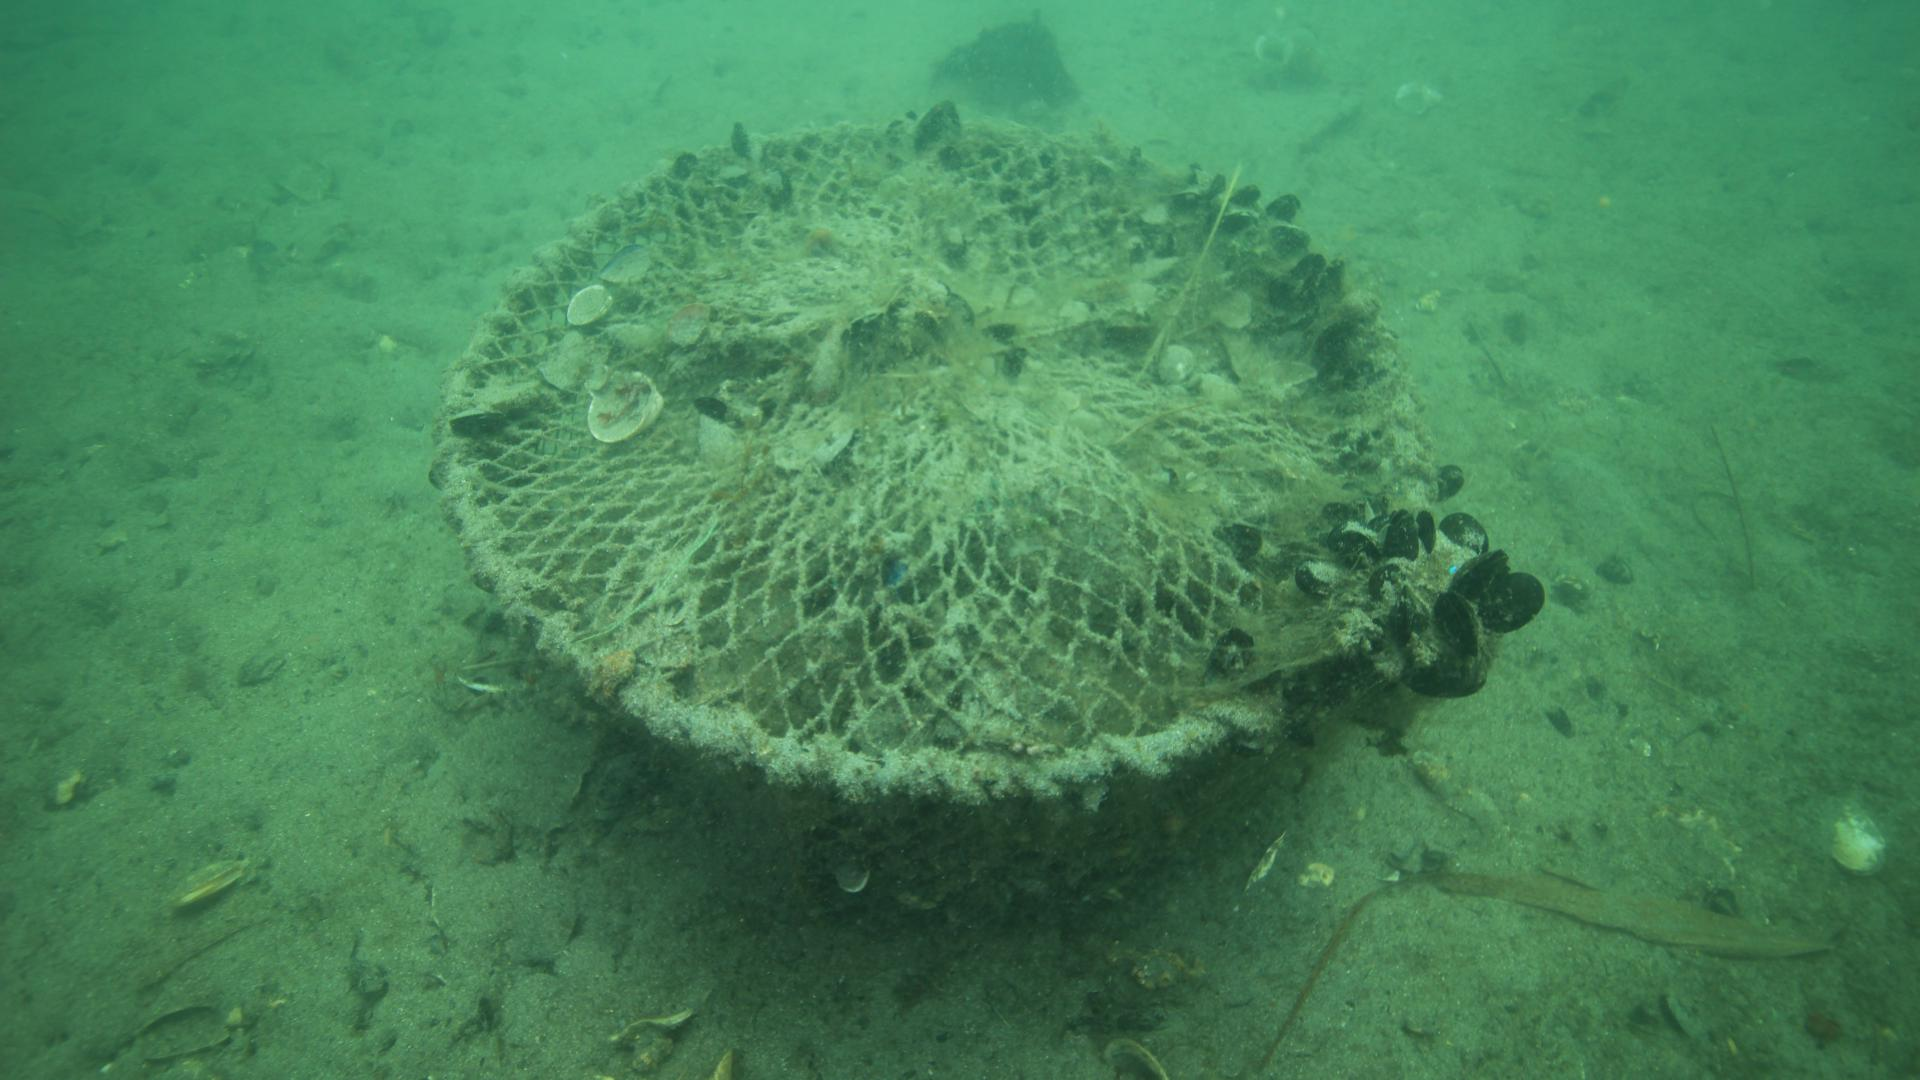circular fish trap: (433, 117, 1433, 923)
